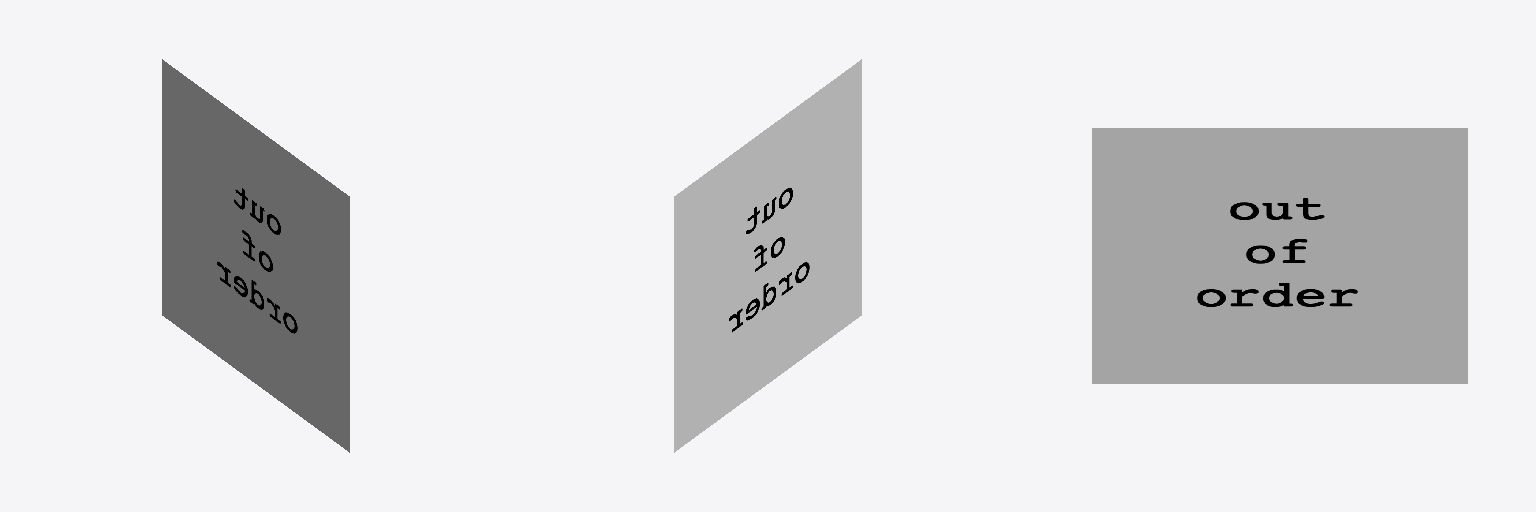
3 renders of one model, left to right at view 1: azimuth 30°, elevation 25°; view 2: azimuth 150°, elevation 25°; view 3: azimuth 270°, elevation 25°, orthographic.
Parts seen in each view (by area): view 1: screen_Plane; view 2: screen_Plane; view 3: screen_Plane.
Part boxes in pixels (x1,y1,x2,y2): screen_Plane: (162,59,349,452); screen_Plane: (674,59,861,452); screen_Plane: (1092,128,1467,383).
Bounding box in the file's own units: 0 × 1.16 × 1.55.
Materials: 1 (1 with a texture image).